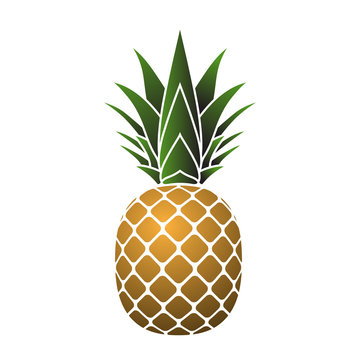Pineapple: (107, 30, 254, 336)
